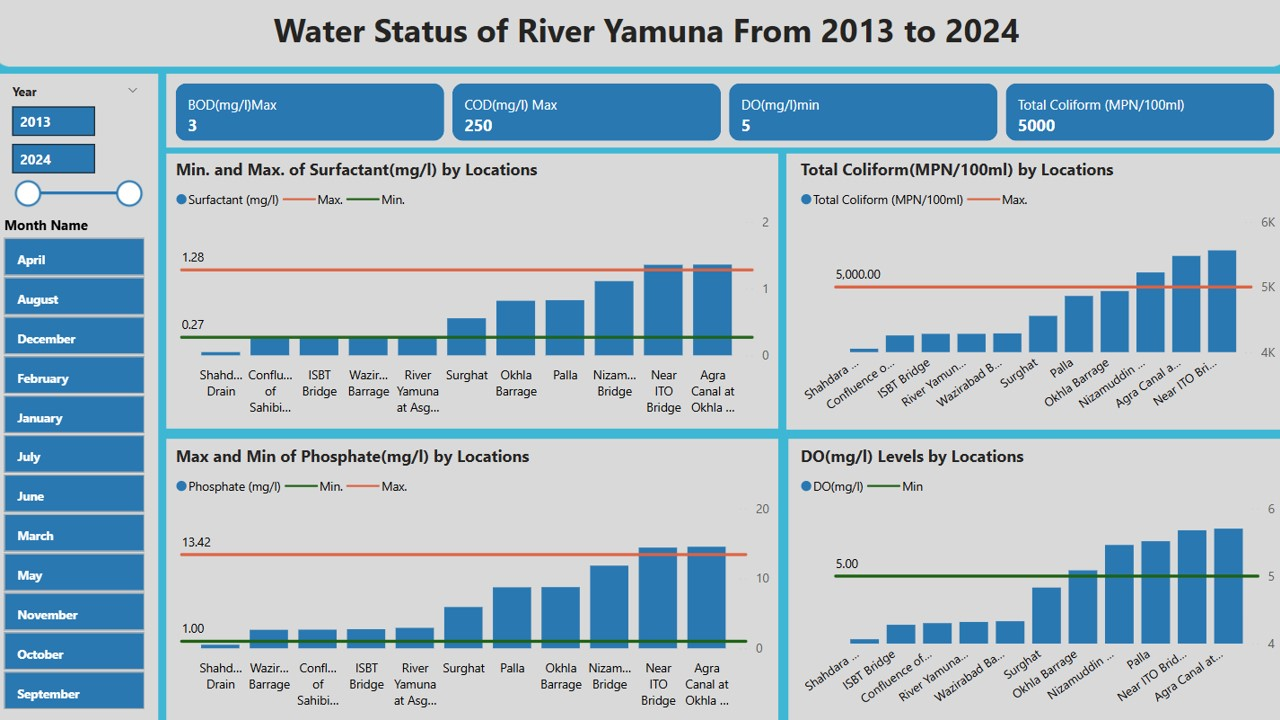

The page's visual inventory and layout, read from the dashboard file:
{"tool":"powerbi","page":{"name":"Dashboard_2","canvas":[1280,720],"ordinal":1},"visuals":[{"type":"textbox","box":[10.2,7.2,1269.8,53.2],"z":0},{"type":"slicer","fields":{"Values":["Dataset.Year"]},"box":[4.5,83,149.8,135.4],"z":1000},{"type":"advancedSlicerVisual","fields":{"Values":["Dataset.Month Name"]},"box":[4.5,218.4,149.8,494.7],"z":2000},{"type":"cardVisual","fields":{"Data":["Max(Criteria.BOD(mg/l)max)","Max(Criteria.COD(mg/l) Max)","Min(Criteria.DO(mg/l)min)","Max(Criteria.Total Coliform (MPN/100ml))"]},"box":[174.2,83,1098.6,67.7],"z":3000},{"type":"lineClusteredColumnComboChart","title":"Max and Min of Phosphate(mg/l) by Locations","fields":{"Category":["Dataset.Locations"],"Y":["Sum(Dataset.Phosphate (mg/l))"],"Y2":["CountNonNull(Criteria.Phosphate(mg/l) Min.)","Max(Criteria.Phosphate(mg/l) Max.)"]},"box":[174.2,445,597.6,268.1],"z":4000},{"type":"lineClusteredColumnComboChart","title":"Total Coliform(MPN/100ml) by Locations","fields":{"Category":["Dataset.Locations"],"Y":["Sum(Dataset.Total Coliform (MPN/100ml))"],"Y2":["Max(Criteria.Total Coliform (MPN/100ml))"]},"box":[792.6,161.6,480.2,261.8],"z":5000},{"type":"lineClusteredColumnComboChart","title":"Min. and Max. of Surfactant(mg/l) by Locations","fields":{"Category":["Dataset.Locations"],"Y":["Sum(Dataset.Surfactant (mg/l))"],"Y2":["Max(Criteria.Surfactant(mg/l) Max.)","Min(Criteria.Surfactant(mg/l) Min.)"]},"box":[174,162,597.9,261.9],"z":6000},{"type":"lineClusteredColumnComboChart","title":"DO(mg/l) Levels by Locations","fields":{"Category":["Dataset.Locations"],"Y":["Sum(Dataset.DO(mg/l))"],"Y2":["Min(Criteria.DO(mg/l)min)"]},"box":[792.9,445.3,480,268.4],"z":7000}]}

Visuals, with their boxes in screenshot pixels (x1, y1, x2, y2), scaled from the page's 1280x720 canvas onto the 1280x720 screenshot:
textbox: (left=10, top=7, right=1279, bottom=60)
slicer - Dataset.Year: (left=4, top=83, right=154, bottom=218)
advancedSlicerVisual - Dataset.Month Name: (left=4, top=218, right=154, bottom=713)
cardVisual - Max(Criteria.BOD(mg/l)max) x Max(Criteria.COD(mg/l) Max): (left=174, top=83, right=1273, bottom=151)
"Max and Min of Phosphate(mg/l) by Locations" lineClusteredColumnComboChart: (left=174, top=445, right=772, bottom=713)
"Total Coliform(MPN/100ml) by Locations" lineClusteredColumnComboChart: (left=793, top=162, right=1273, bottom=423)
"Min. and Max. of Surfactant(mg/l) by Locations" lineClusteredColumnComboChart: (left=174, top=162, right=772, bottom=424)
"DO(mg/l) Levels by Locations" lineClusteredColumnComboChart: (left=793, top=445, right=1273, bottom=714)
